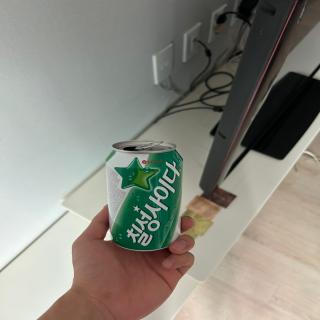chilsung: (102, 137, 183, 253)
